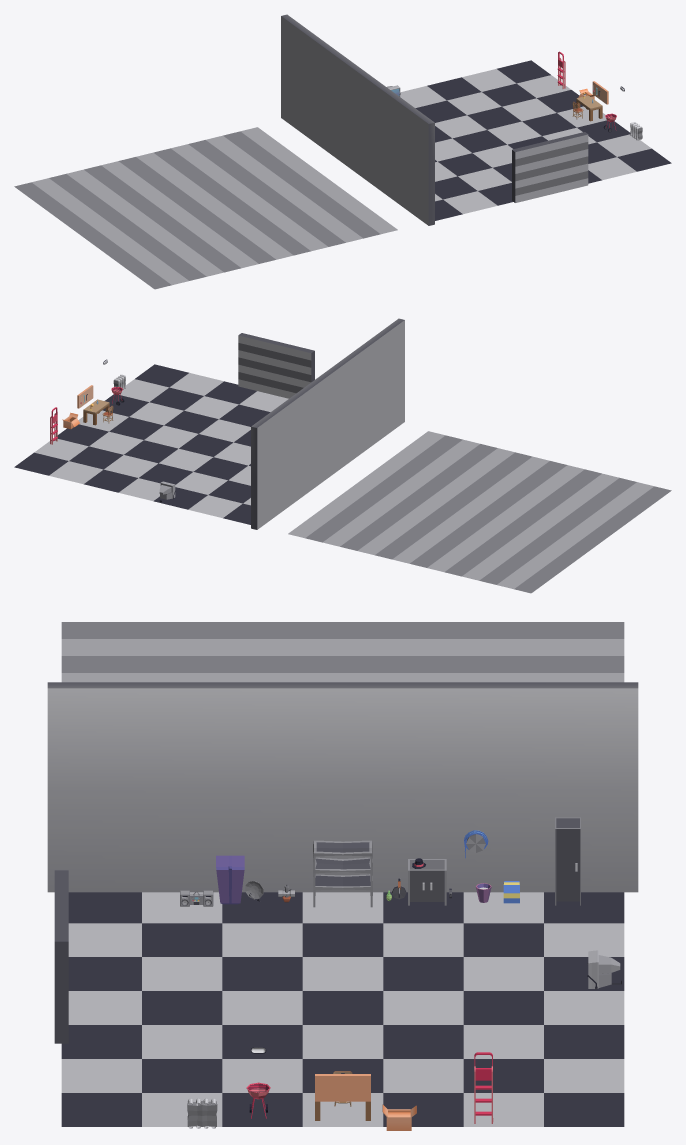
The model's file is GarageFbxs.fbx.
The picture shows the model from 3 angles, top to bottom: view 1: azimuth 30°, elevation 25°; view 2: azimuth 150°, elevation 25°; view 3: azimuth 270°, elevation 25°; orthographic projection. The views are drawn at different scales.
Visible parts, largest first — view 1: Garage_Floor_Lines, Garage_Floor_Quads, Garage_wall, Garage_gate; view 2: Garage_Floor_Lines, Garage_Floor_Quads, Garage_wall, Garage_gate; view 3: Garage_Floor_Quads, Garage_wall, Garage_Floor_Lines, Shelf, Garage_gate, Cabinet_L, Cabinet_S, Tool_Board, Trash, TV, conditioning, Stairs.
Boxes of the visible parts, x1,y1,x2,y2 form: Garage_Floor_Lines: [14, 127, 397, 289]; Garage_Floor_Quads: [400, 60, 671, 220]; Garage_wall: [281, 14, 434, 225]; Garage_gate: [512, 132, 588, 202]; Garage_Floor_Lines: [288, 431, 671, 593]; Garage_Floor_Quads: [14, 364, 288, 524]; Garage_wall: [251, 318, 404, 529]; Garage_gate: [238, 333, 314, 398]; Garage_Floor_Quads: [61, 892, 624, 1126]; Garage_wall: [47, 682, 638, 892]; Garage_Floor_Lines: [61, 622, 624, 682]; Shelf: [313, 840, 372, 907]; Garage_gate: [54, 870, 68, 1043]; Cabinet_L: [555, 817, 580, 905]; Cabinet_S: [408, 859, 446, 905]; Tool_Board: [315, 1074, 370, 1101]; Trash: [216, 855, 244, 904]; TV: [587, 950, 621, 989]; conditioning: [187, 1098, 217, 1128]; Stairs: [474, 1052, 493, 1123].
Bounding box in the file's own units: 4278 × 802 × 2100.
